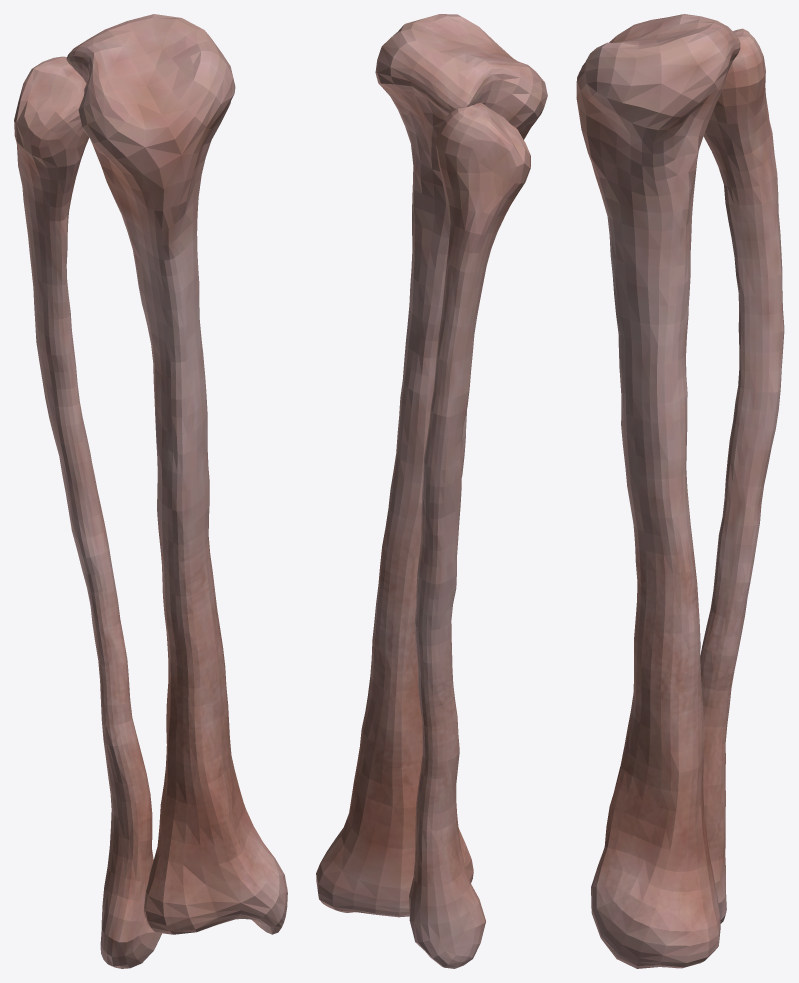
File: SubTool-15-7838689.OBJ
The picture shows the model from 3 angles, left to right: view 1: azimuth 30°, elevation 25°; view 2: azimuth 150°, elevation 25°; view 3: azimuth 270°, elevation 25°; orthographic projection. The views are drawn at different scales.
Parts seen in each view (by area): view 1: Group1, ZBrush_defualt_group; view 2: Group1, ZBrush_defualt_group; view 3: Group1, ZBrush_defualt_group.
Boxes of the visible parts, x1,y1,x2,y2 form: Group1: (66, 14, 287, 934); ZBrush_defualt_group: (14, 56, 161, 968); Group1: (316, 14, 547, 917); ZBrush_defualt_group: (409, 102, 530, 968); Group1: (576, 14, 740, 968); ZBrush_defualt_group: (700, 28, 784, 923).
Size of the model in its own units: 0.7978 by 3.07 by 0.6276.
Materials: 1 (1 with a texture image).
